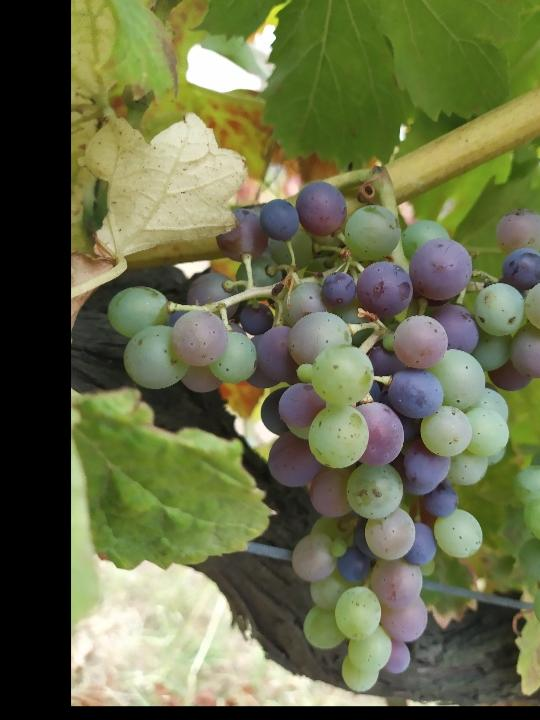grape: (104, 178, 540, 693)
